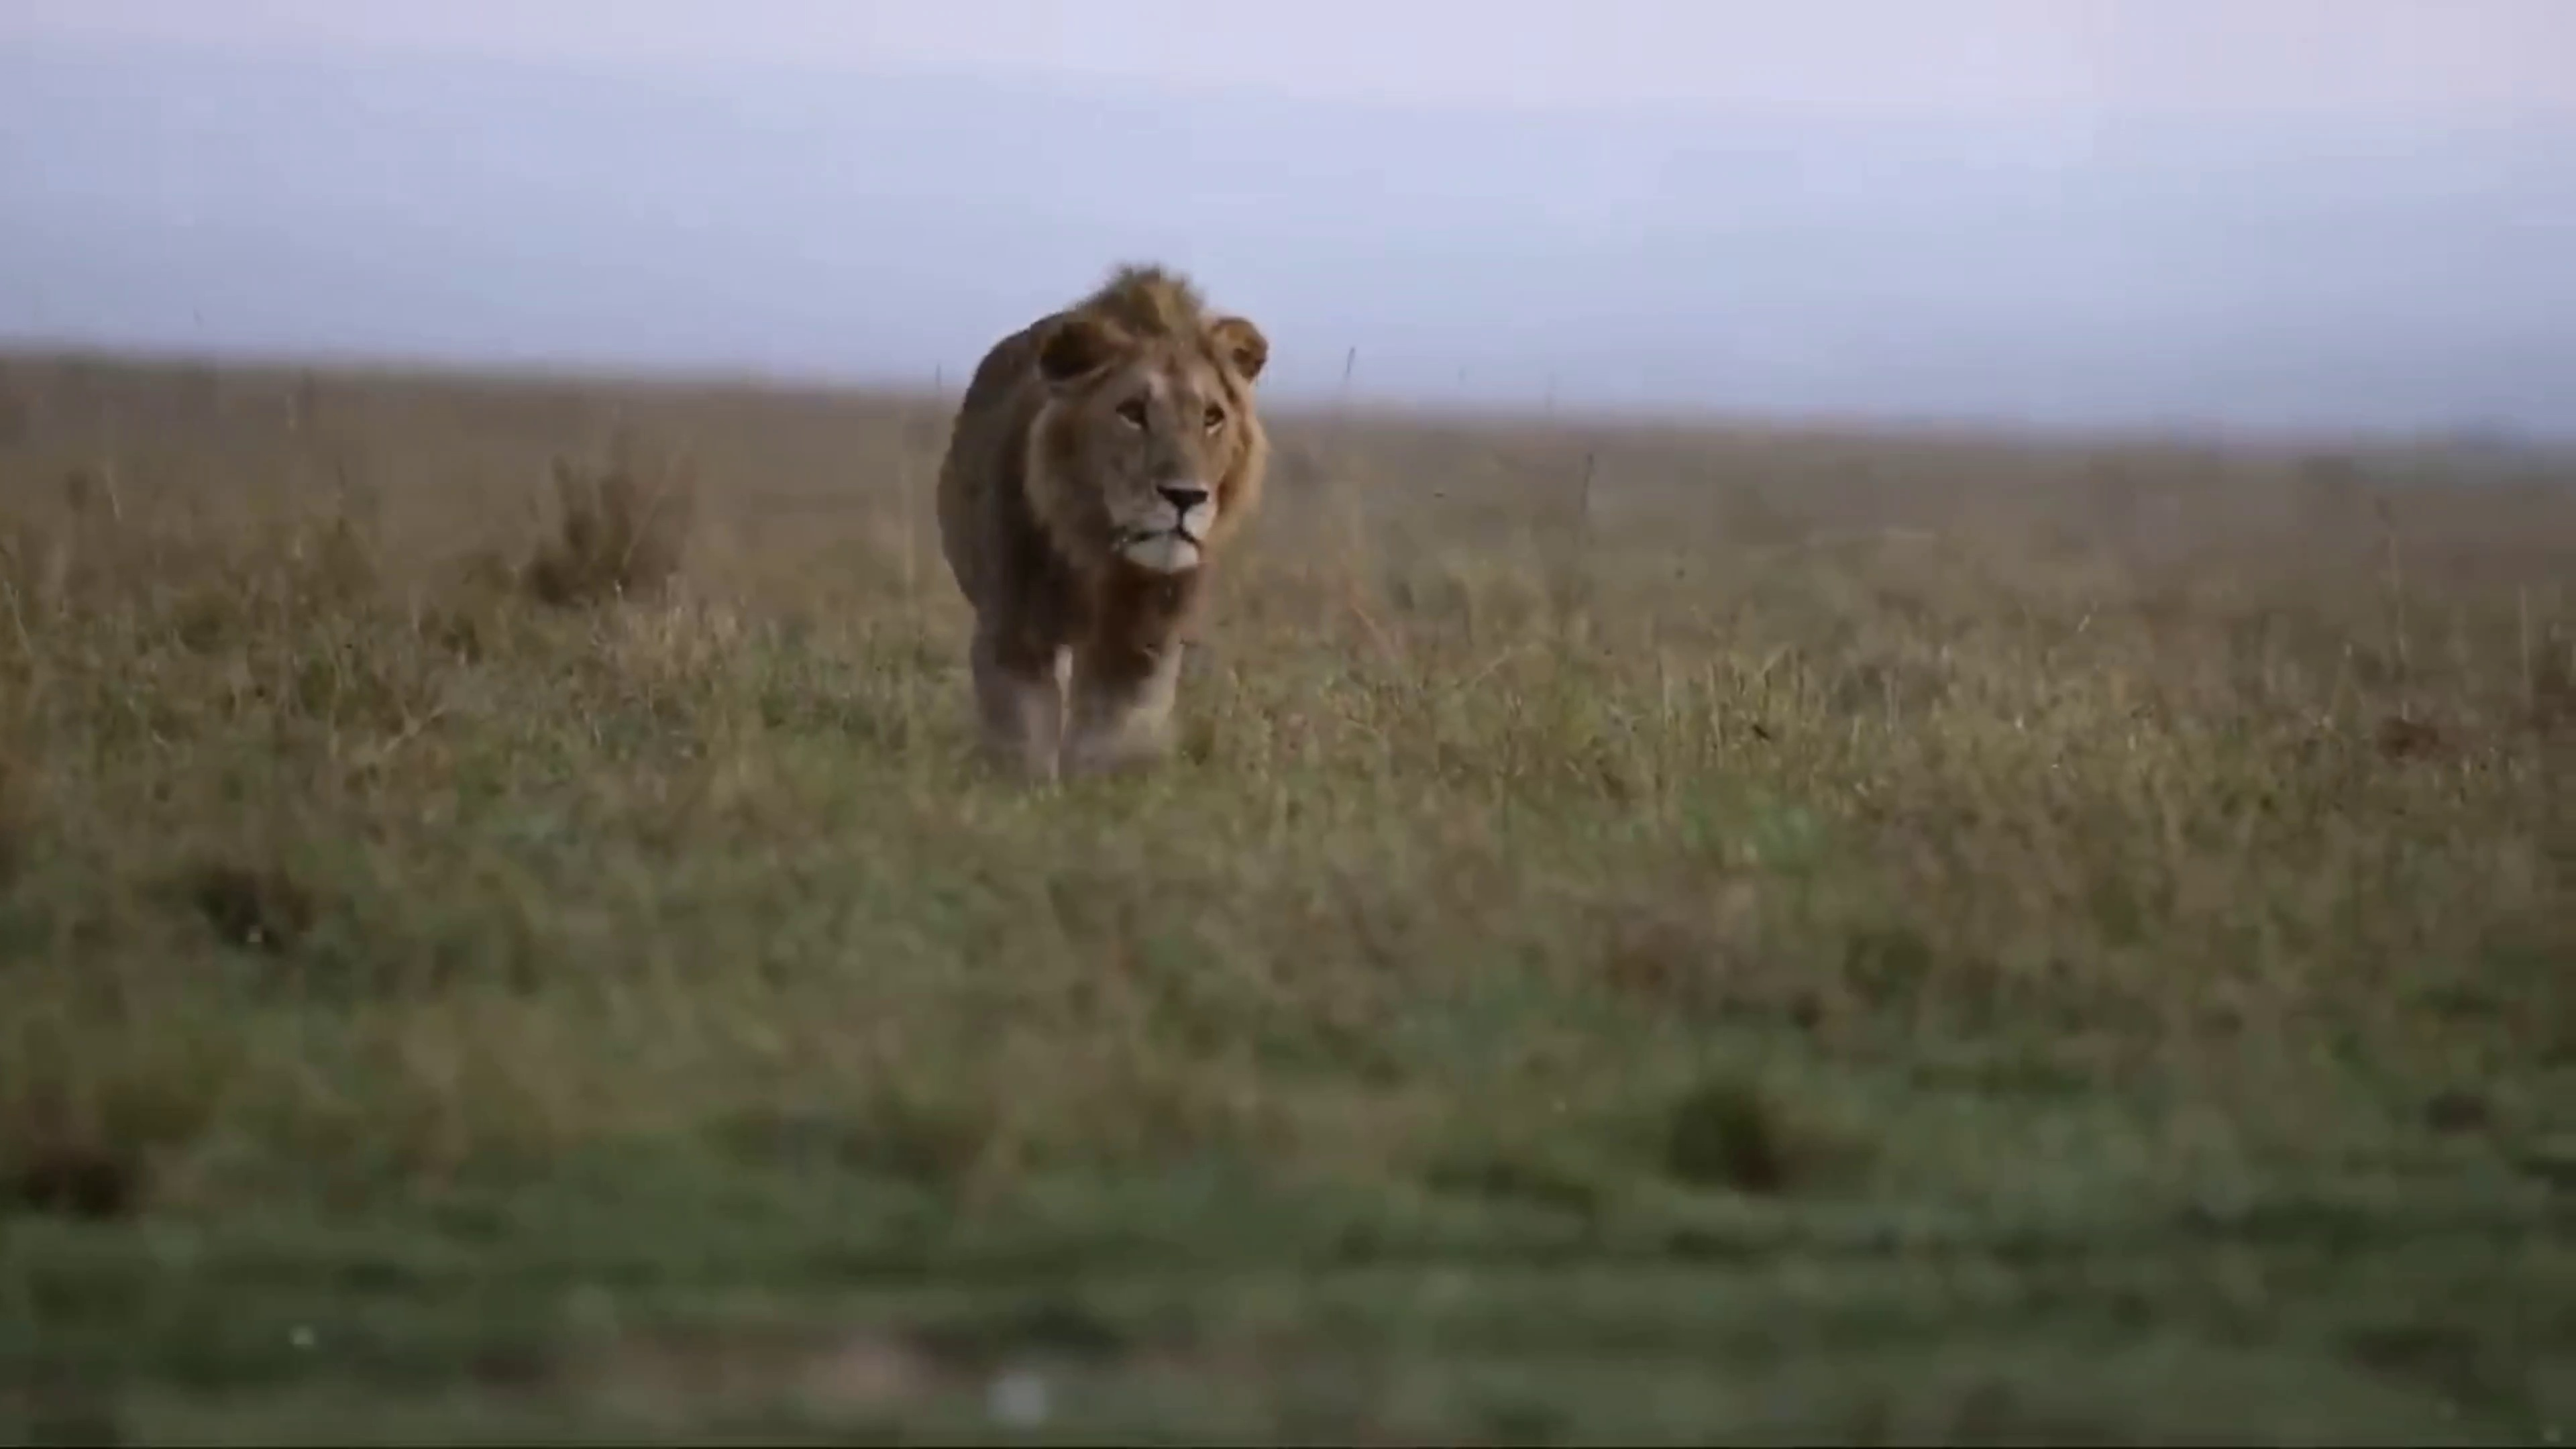Lion: (936, 262, 1270, 789)
